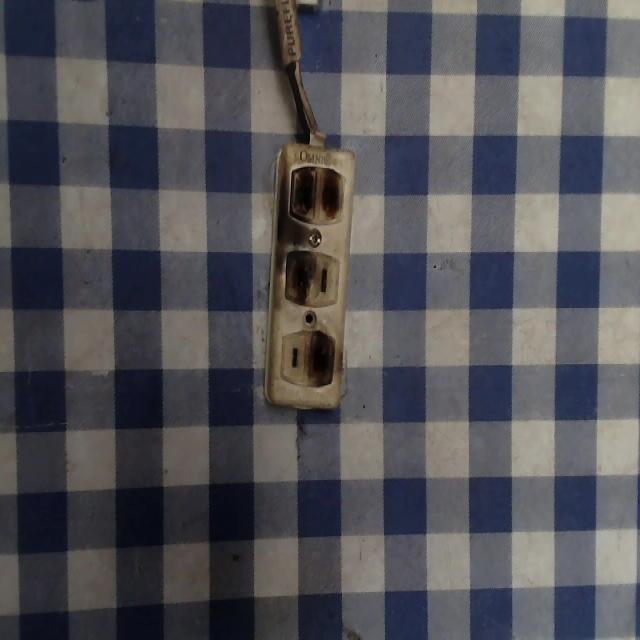-: (283, 157, 347, 227), (280, 246, 316, 306), (304, 328, 337, 392)
